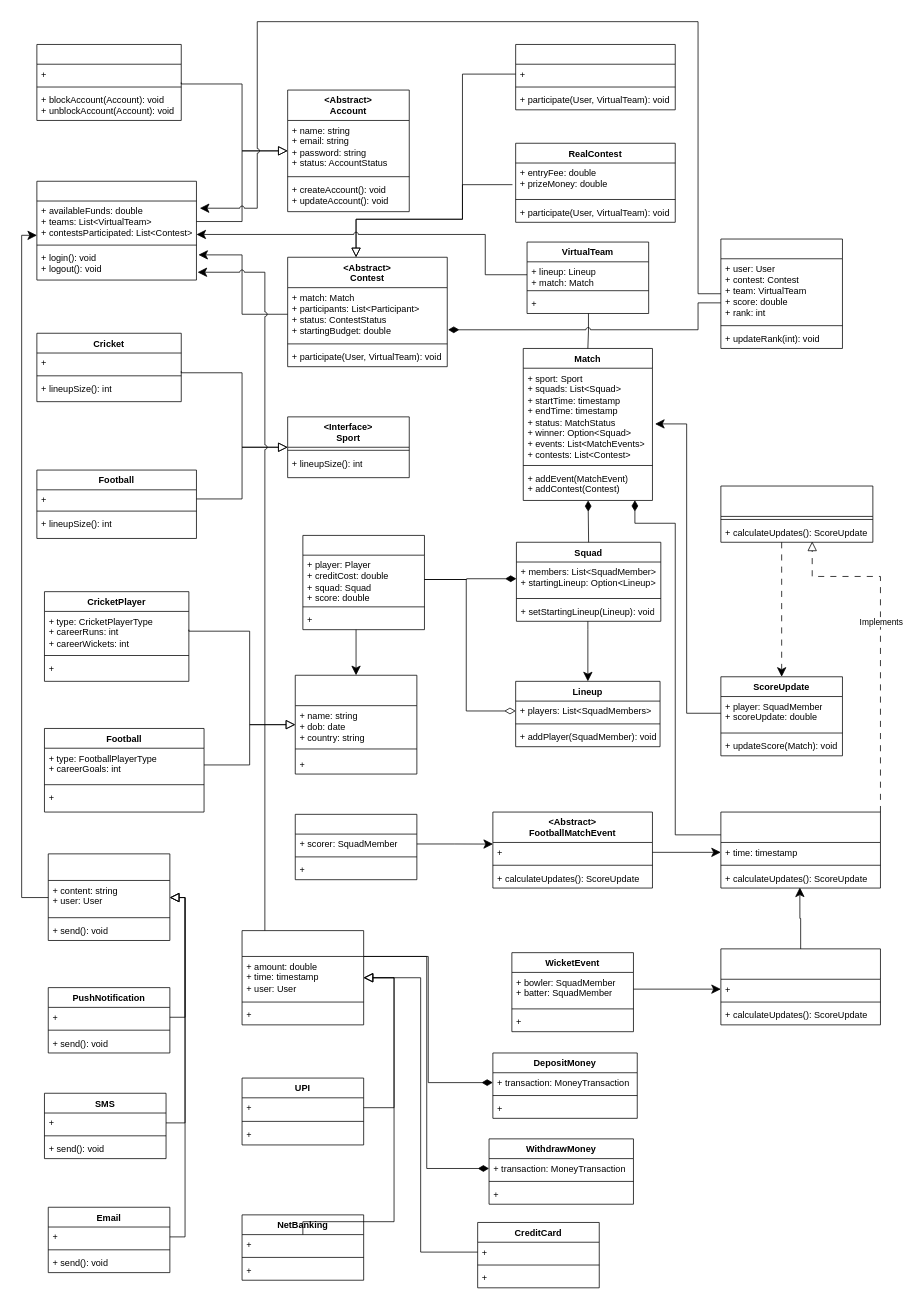
Some shapes in this 916 by 1303 pixel diagram are drawn without their labels. The box of each missing label's shape, as (x1, y1, x2, y2) in pixels:
<Abstract> CricketMatchEvent: (720, 948, 880, 1025)
<Abstract> MatchEvent: (720, 811, 880, 888)
<Abstract> MoneyTransaction: (241, 930, 364, 1025)
<Abstract> Notification: (48, 853, 170, 940)
<Abstract> Player: (294, 674, 417, 774)
<Interface> ScoreUpdateAdapter: (720, 485, 873, 542)
Admin: (36, 44, 181, 120)
GoalEvent: (294, 814, 417, 880)
Participant: (720, 238, 842, 348)
PracticeContest: (515, 44, 675, 110)
SquadMember: (302, 535, 424, 630)
User: (36, 180, 196, 280)
